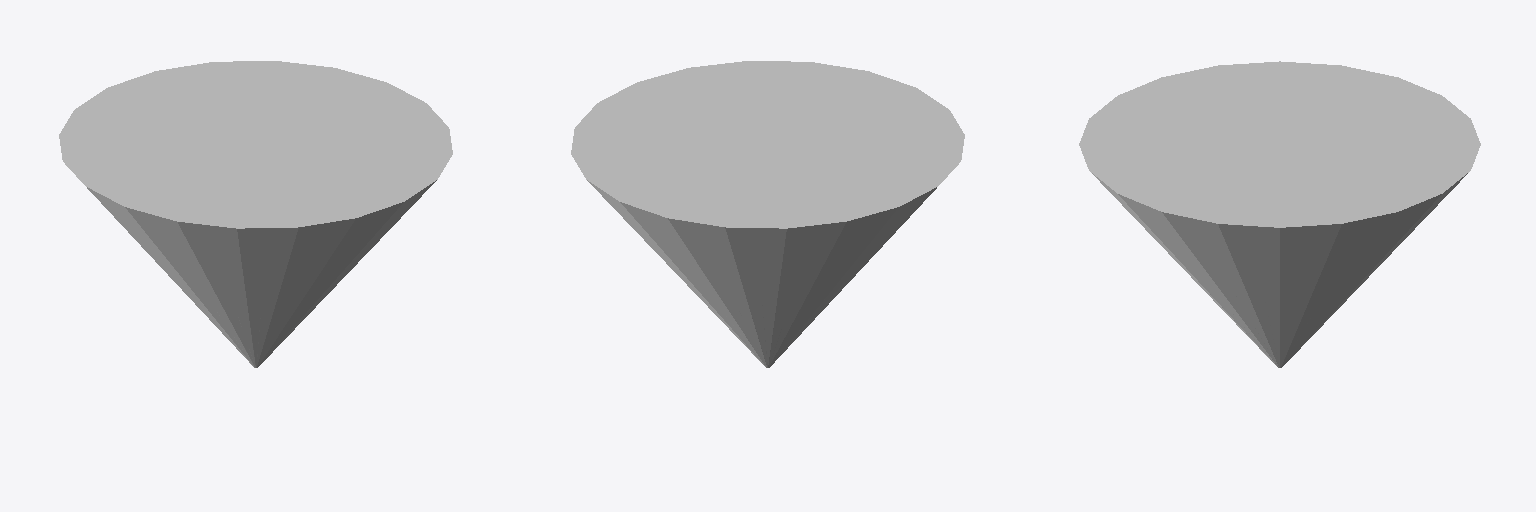
File: Ligth_cone.obj
3 renders of one model, left to right at view 1: azimuth 30°, elevation 25°; view 2: azimuth 150°, elevation 25°; view 3: azimuth 270°, elevation 25°, orthographic.
Parts seen in each view (by area): view 1: Cilindro; view 2: Cilindro; view 3: Cilindro.
Part boxes in pixels (x1,y1,x2,y2): Cilindro: (59, 61, 452, 367); Cilindro: (571, 61, 964, 367); Cilindro: (1079, 61, 1480, 367).
Bounding box in the file's own units: 7.99 × 4.98 × 8.15.